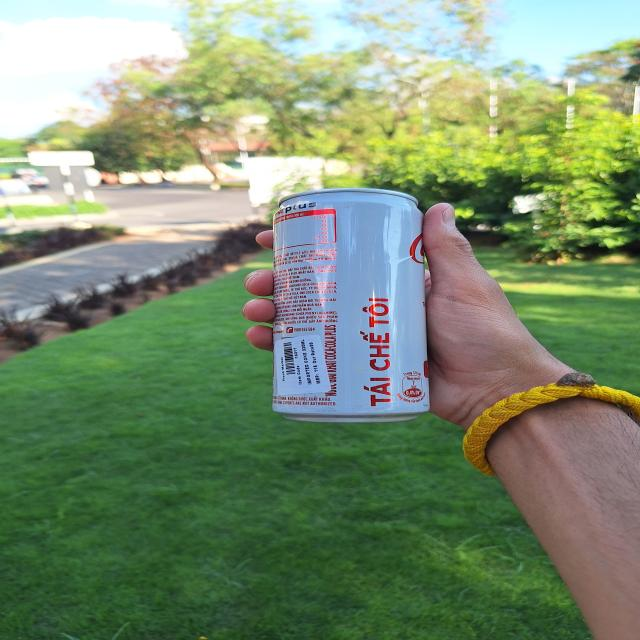Coca Cola Plus: (259, 185, 443, 428)
